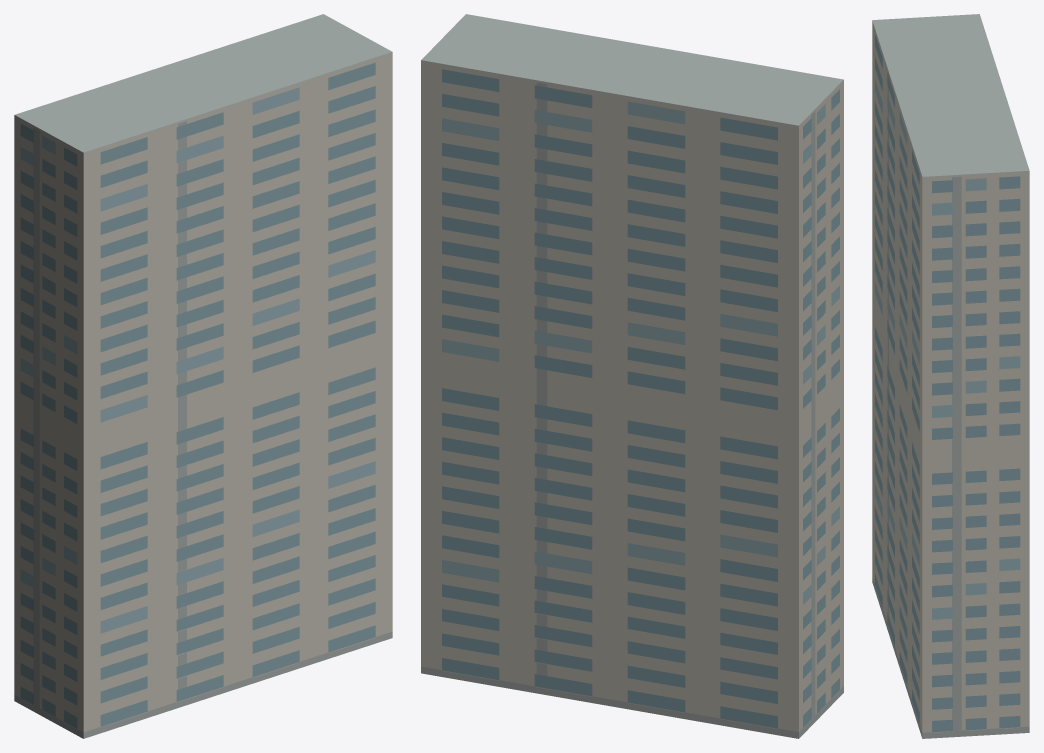
Rendered from residential-79f57805-0db1-4b6b-81fd-90dcfd2393ad.glb.
The picture shows the model from 3 angles, left to right: view 1: azimuth 30°, elevation 25°; view 2: azimuth 150°, elevation 25°; view 3: azimuth 270°, elevation 25°; orthographic projection. The views are drawn at different scales.
Parts seen in each view (by area): view 1: residential-79f57805-0db1-4b6b-81fd-90dcfd2393ad.tmp; view 2: residential-79f57805-0db1-4b6b-81fd-90dcfd2393ad.tmp; view 3: residential-79f57805-0db1-4b6b-81fd-90dcfd2393ad.tmp.
Boxes of the visible parts, x1,y1,x2,y2 form: residential-79f57805-0db1-4b6b-81fd-90dcfd2393ad.tmp: (14,14,392,738); residential-79f57805-0db1-4b6b-81fd-90dcfd2393ad.tmp: (421,14,843,738); residential-79f57805-0db1-4b6b-81fd-90dcfd2393ad.tmp: (872,14,1029,738).
Bounding box in the file's own units: 42.89 × 69 × 17.52.
